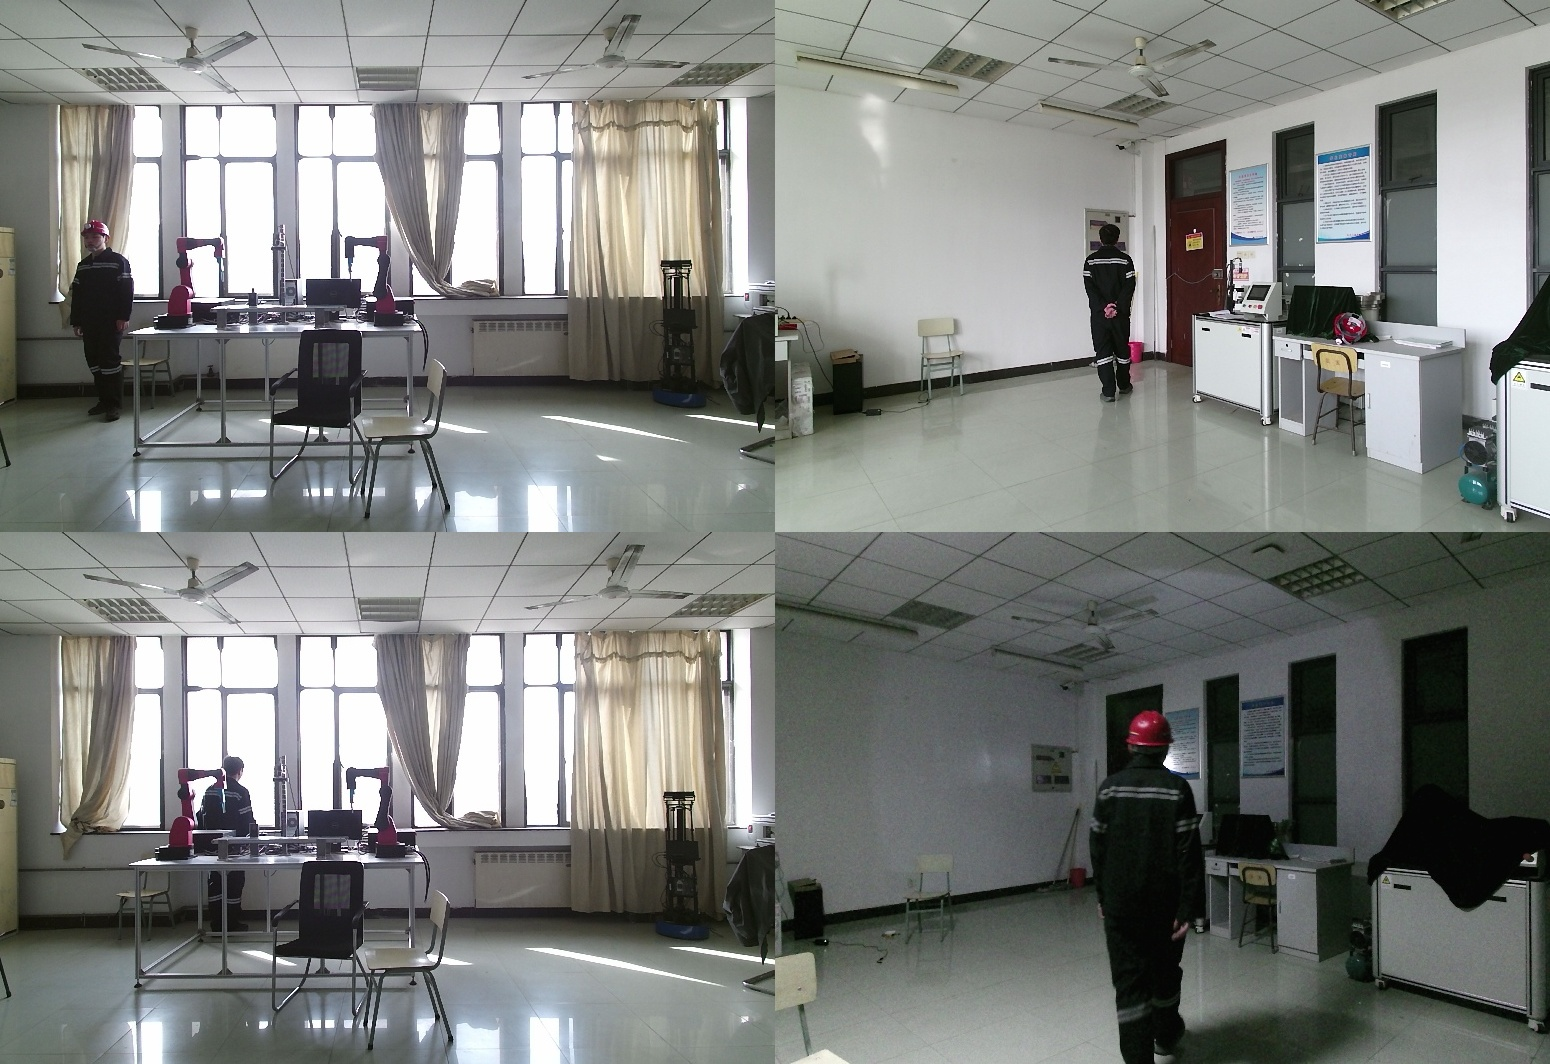person: (1081, 706, 1230, 1064), (59, 222, 133, 422), (1077, 224, 1140, 407), (198, 760, 254, 949)
